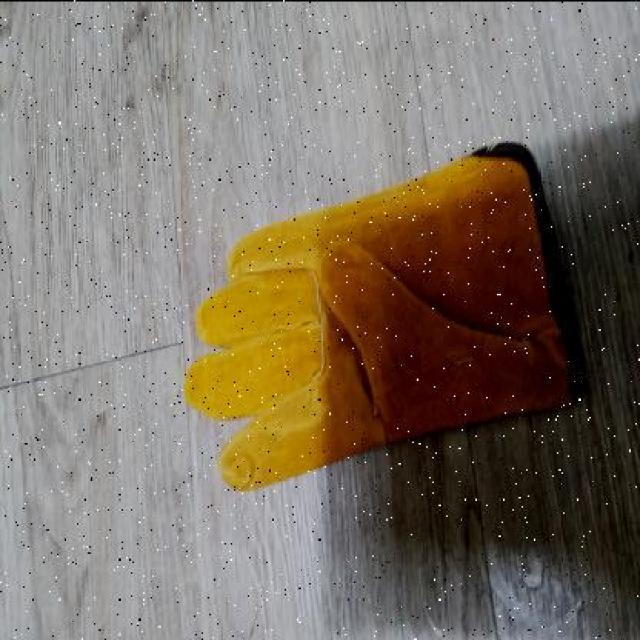Gloves: (191, 147, 579, 494)
